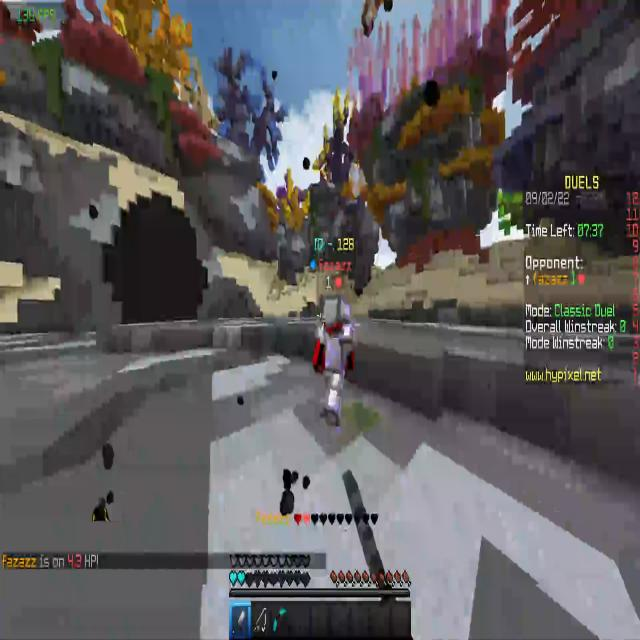Player: (309, 292, 358, 438)
